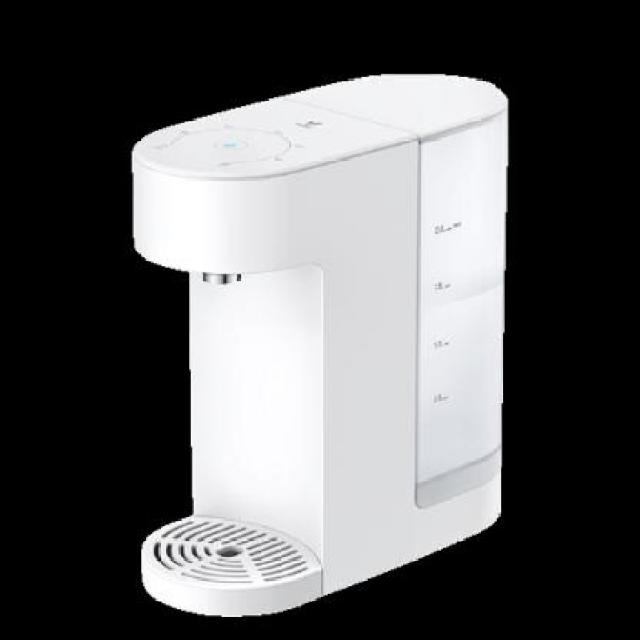cooler: (128, 63, 512, 625)
